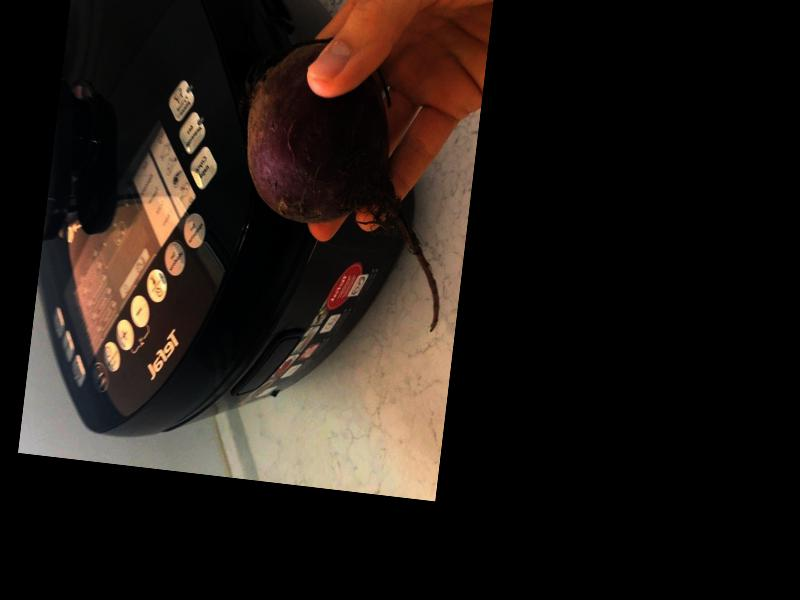Beet: (217, 30, 467, 330)
